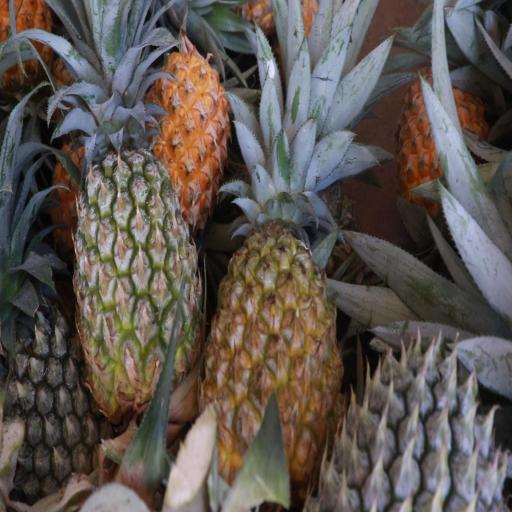------------------------------: (70, 136, 201, 414)
Pineapple - v8 v1: (205, 199, 340, 487), (82, 42, 226, 188), (398, 72, 484, 192)
